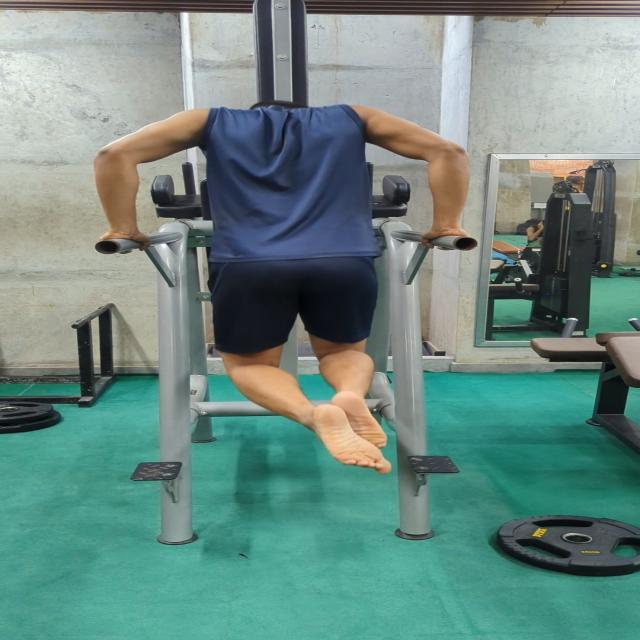Normal_Dips: (71, 79, 486, 478)
